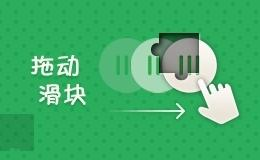target: (139, 14, 179, 54)
